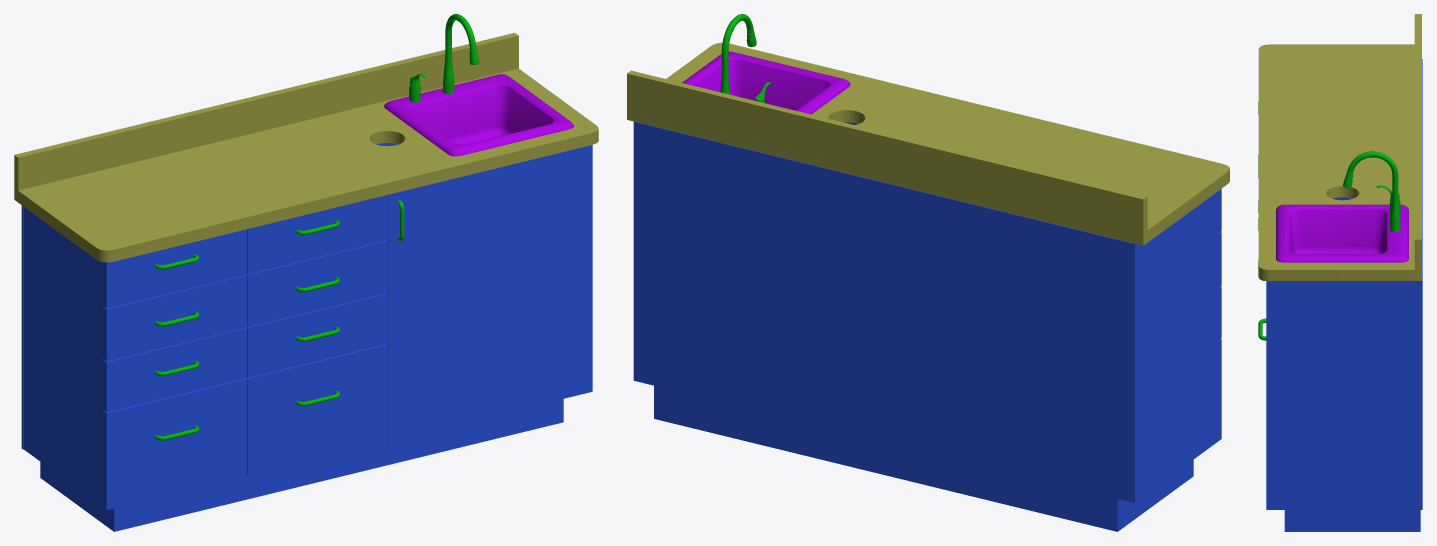
File: Cabinet 3 V2.FBX
The picture shows the model from 3 angles, left to right: view 1: azimuth 30°, elevation 25°; view 2: azimuth 150°, elevation 25°; view 3: azimuth 270°, elevation 25°; orthographic projection. The views are drawn at different scales.
Visible parts, largest first — view 1: Box167, Box163, Box191, Object020, 654; view 2: Box167, Box163, Box191, 654; view 3: Box167, Box163, Box191, 654, Object020.
Part boxes in pixels (left/top/right/bottom): Box167: left=21, top=143, right=592, bottom=531; Box163: left=14, top=33, right=598, bottom=262; Box191: left=384, top=74, right=573, bottom=156; Object020: left=155, top=200, right=404, bottom=440; 654: left=409, top=14, right=479, bottom=102; Box167: left=633, top=114, right=1221, bottom=531; Box163: left=627, top=42, right=1229, bottom=245; Box191: left=682, top=51, right=850, bottom=114; 654: left=720, top=14, right=771, bottom=102; Box167: left=1266, top=59, right=1422, bottom=531; Box163: left=1258, top=14, right=1421, bottom=280; Box191: left=1276, top=204, right=1408, bottom=262; 654: left=1343, top=151, right=1400, bottom=231; Object020: left=1258, top=102, right=1266, bottom=340.
Size of the model in its own units: 10.61 by 7.79 by 3.26.
